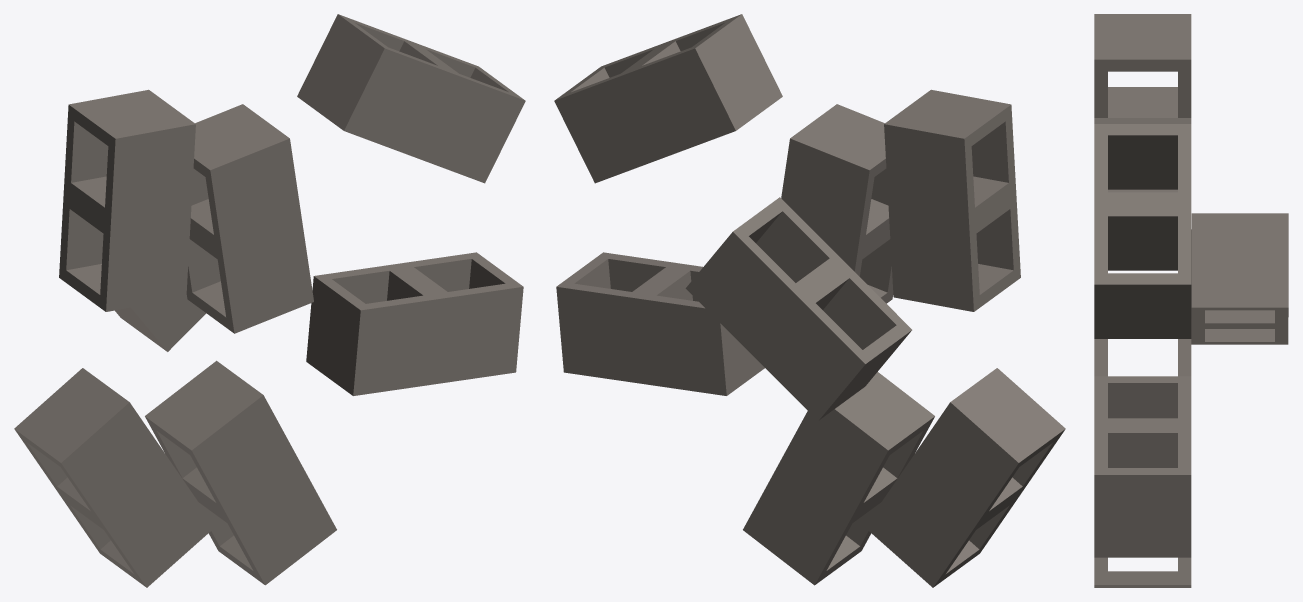
File: Brick_Cinder_Pile.fbx
The picture shows the model from 3 angles, left to right: view 1: azimuth 30°, elevation 25°; view 2: azimuth 150°, elevation 25°; view 3: azimuth 270°, elevation 25°; orthographic projection. The views are drawn at different scales.
Parts seen in each view (by area): view 1: Brick_Cinder_Pile; view 2: Brick_Cinder_Pile; view 3: Brick_Cinder_Pile.
Part boxes in pixels (box(x1,y1,x2,y2)): Brick_Cinder_Pile: box(14, 14, 525, 587); Brick_Cinder_Pile: box(554, 14, 1065, 587); Brick_Cinder_Pile: box(1094, 14, 1288, 587).
Size of the model in its own units: 1.14 by 1.19 by 0.4.
